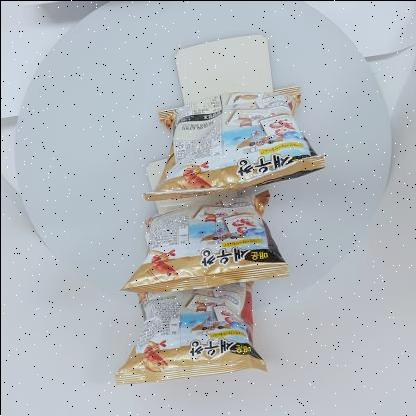Others: (101, 80, 332, 388)
